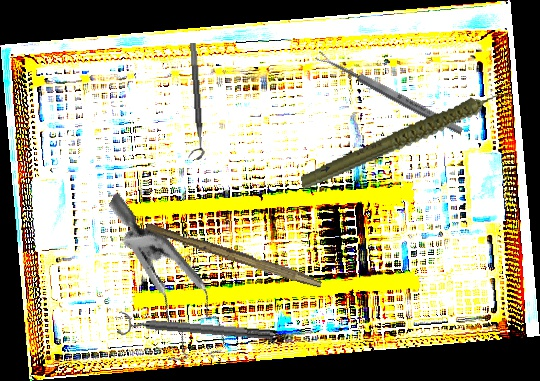Fixation Ring: (117, 309, 274, 349), (179, 42, 206, 161)
Handpiece: (291, 88, 524, 192)
Scalpel Handle: (143, 221, 325, 289)
Speculum: (58, 192, 264, 380)
Surgical Spoon: (314, 49, 465, 137)
